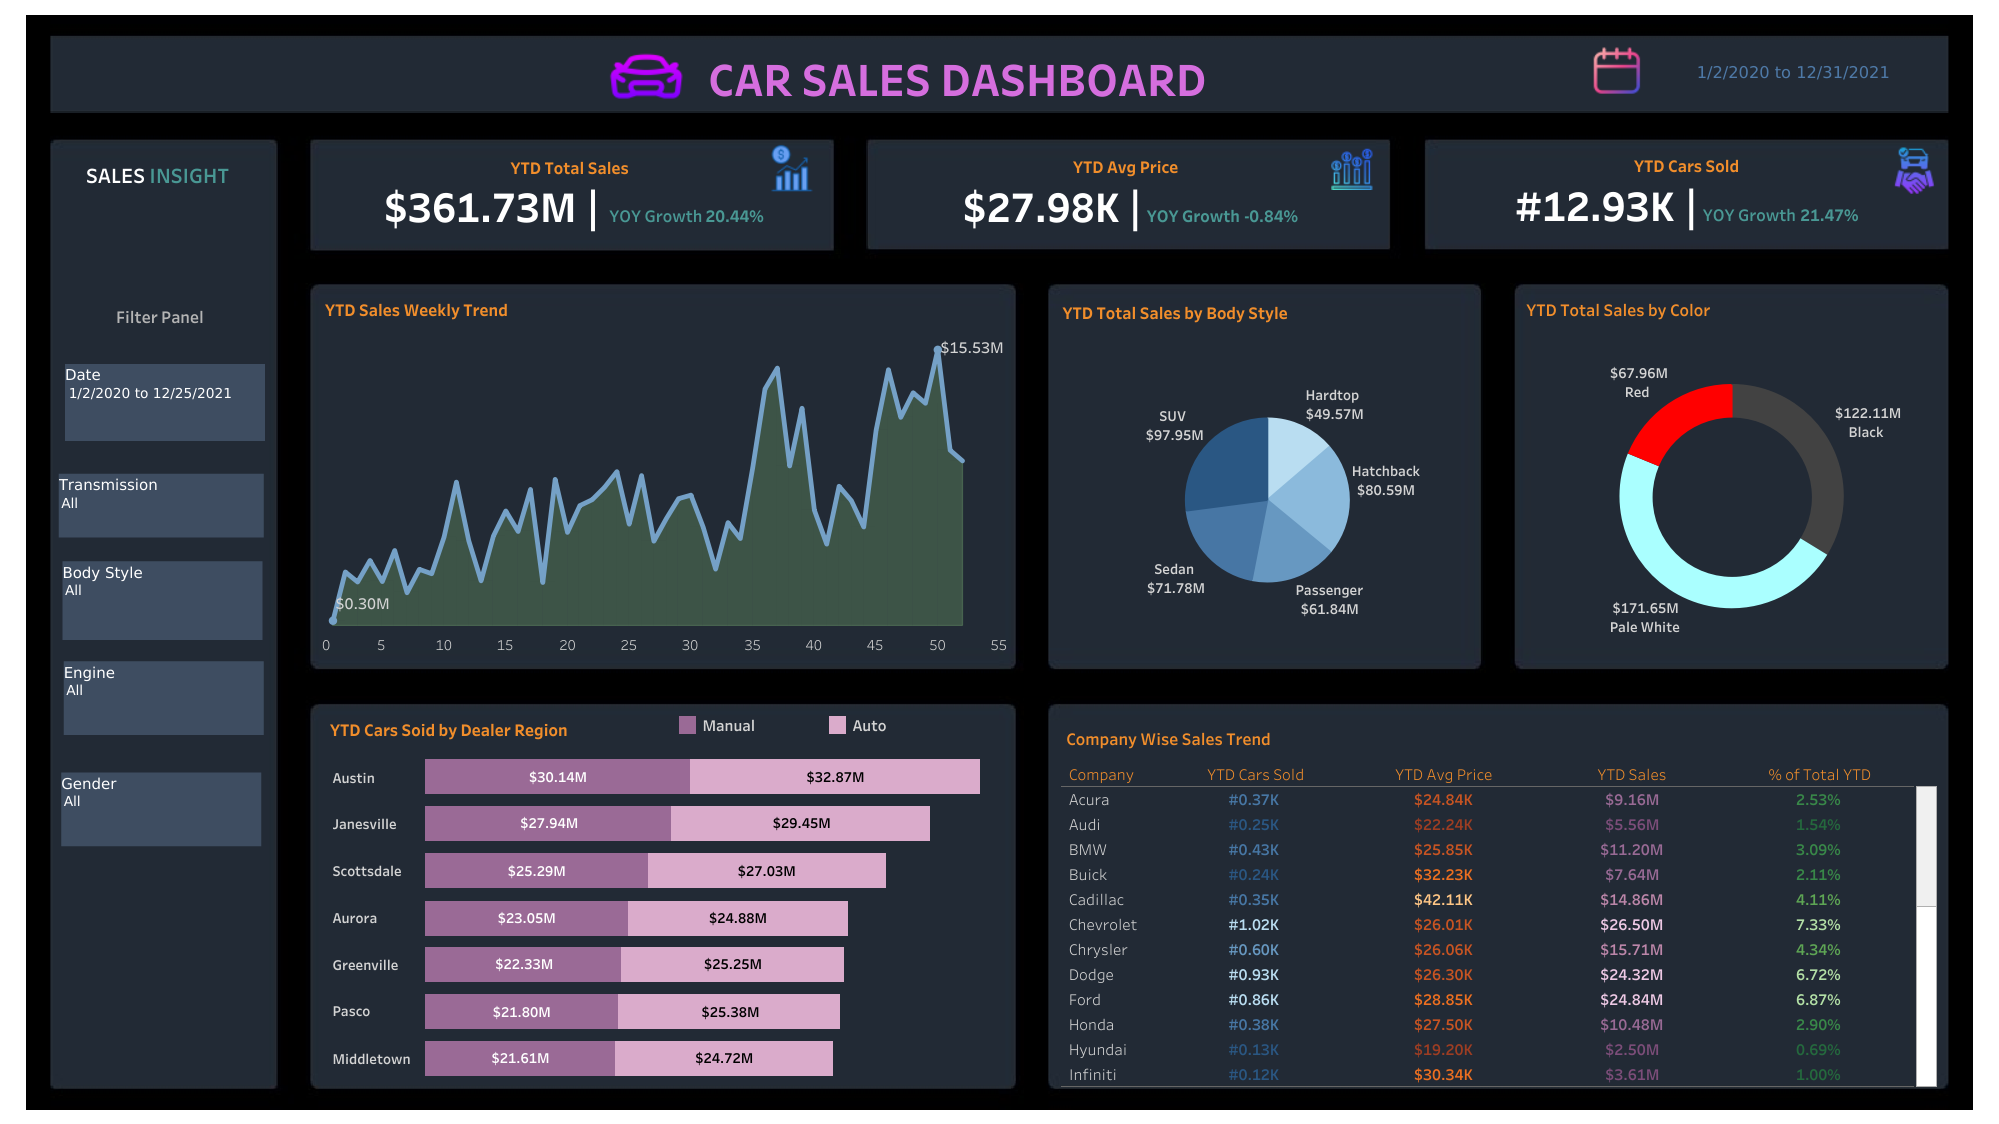

The page's visual inventory and layout, read from the dashboard file:
{"tool":"tableau","page":{"name":"Car Sales Dashboard","canvas":[1600,900],"ordinal":0},"visuals":[{"type":"image","box":[8,8,792,442]},{"type":"image","param":"Image/Car Sales Background.jpg","box":[8,8,1584,884]},{"type":"image","box":[800,8,396,884]},{"type":"image","box":[1196,8,396,884]},{"type":"image","param":"Image/race-car.png","box":[478,25,78,66]},{"type":"text","box":[564,34,497,57]},{"type":"image","param":"Image/calendar.png","box":[1263,36,62,41]},{"type":"worksheet","title":"Date Range","mark":"Automatic","box":[1318,40,233,36]},{"type":"worksheet","title":"YTD Total Sales","mark":"Automatic","box":[250,113,412,86]},{"type":"worksheet","title":"YTD Cars Sold","mark":"Automatic","box":[1143,114,413,80]},{"type":"image","param":"Image/increase.png","box":[614,115,40,39]},{"type":"worksheet","title":"YTD Avg Price","mark":"Automatic","box":[698,115,406,79]},{"type":"image","param":"Image/deal.png","box":[1513,117,37,39]},{"type":"image","param":"Image/competitive.png","box":[1062,119,39,33]},{"type":"text","box":[51,124,150,30]},{"type":"worksheet","title":"YTD Sales Weekly Trend","mark":"Area","rows":["Calculation_744782801215340544","Calculation_744782801215340544"],"cols":["Date"],"box":[256,232,553,298]},{"type":"worksheet","title":"YTD Total Sales by Color ","mark":"Circle","cols":["Calculation_702561554973933569","Calculation_702561554973970435"],"box":[1217,232,337,295]},{"type":"worksheet","title":"YTD Total Sales by Body Style","mark":"Pie","box":[846,234,335,298]},{"type":"text","box":[53,237,150,30]},{"type":"filter","title":"YTD Sales Weekly Trend","param":"[federated.11rixh40ydwsw212812fw0ff7sbr].[none:Date:qk]","box":[52,291,160,62]},{"type":"filter","title":"YTD Sales Weekly Trend","param":"[federated.11rixh40ydwsw212812fw0ff7sbr].[none:Transmission:nk]","box":[47,379,164,51]},{"type":"filter","title":"YTD Sales Weekly Trend","param":"[federated.11rixh40ydwsw212812fw0ff7sbr].[none:Body Style:nk]","box":[50,449,160,63]},{"type":"image","box":[8,450,792,442]},{"type":"filter","title":"YTD Sales Weekly Trend","param":"[federated.11rixh40ydwsw212812fw0ff7sbr].[none:Engine:nk]","box":[51,529,160,59]},{"type":"worksheet","title":"YTD Cars Soid by Dealer Region","mark":"Automatic","rows":["Dealer_Region"],"cols":["Calculation_744782801215340544"],"box":[260,568,546,297]},{"type":"legend","title":"YTD Cars Soid by Dealer Region","param":"[federated.11rixh40ydwsw212812fw0ff7sbr].[none:Transmission:nk]","box":[540,570,267,26]},{"type":"worksheet","title":"Company Wise Sales Trend","mark":"Automatic","rows":["Company"],"box":[849,575,701,295]},{"type":"filter","title":"YTD Sales Weekly Trend","param":"[federated.11rixh40ydwsw212812fw0ff7sbr].[none:Gender:nk]","box":[49,618,160,59]}]}

Visuals, with their boxes in screenshot pixels (x1, y1, x2, y2), scaled from the page's 1600x900 canvas onto the 1999x1124 screenshot:
image: <region>10, 10, 999, 562</region>
image: <region>10, 10, 1989, 1114</region>
image: <region>999, 10, 1494, 1114</region>
image: <region>1494, 10, 1989, 1114</region>
image: <region>597, 31, 695, 114</region>
text: <region>705, 42, 1326, 114</region>
image: <region>1578, 45, 1655, 96</region>
"Date Range" worksheet: <region>1647, 50, 1938, 95</region>
"YTD Total Sales" worksheet: <region>312, 141, 827, 249</region>
"YTD Cars Sold" worksheet: <region>1428, 142, 1944, 242</region>
image: <region>767, 144, 817, 192</region>
"YTD Avg Price" worksheet: <region>872, 144, 1379, 242</region>
image: <region>1890, 146, 1937, 195</region>
image: <region>1327, 149, 1376, 190</region>
text: <region>64, 155, 251, 192</region>
"YTD Sales Weekly Trend" worksheet (Area marks): <region>320, 290, 1011, 662</region>
"YTD Total Sales by Color " worksheet (Circle marks): <region>1520, 290, 1942, 658</region>
"YTD Total Sales by Body Style" worksheet (Pie marks): <region>1057, 292, 1476, 664</region>
text: <region>66, 296, 254, 333</region>
"YTD Sales Weekly Trend" filter: <region>65, 363, 265, 441</region>
"YTD Sales Weekly Trend" filter: <region>59, 473, 264, 537</region>
"YTD Sales Weekly Trend" filter: <region>62, 561, 262, 639</region>
image: <region>10, 562, 999, 1114</region>
"YTD Sales Weekly Trend" filter: <region>64, 661, 264, 734</region>
"YTD Cars Soid by Dealer Region" worksheet: <region>325, 709, 1007, 1080</region>
"YTD Cars Soid by Dealer Region" legend: <region>675, 712, 1008, 744</region>
"Company Wise Sales Trend" worksheet: <region>1061, 718, 1937, 1087</region>
"YTD Sales Weekly Trend" filter: <region>61, 772, 261, 845</region>
